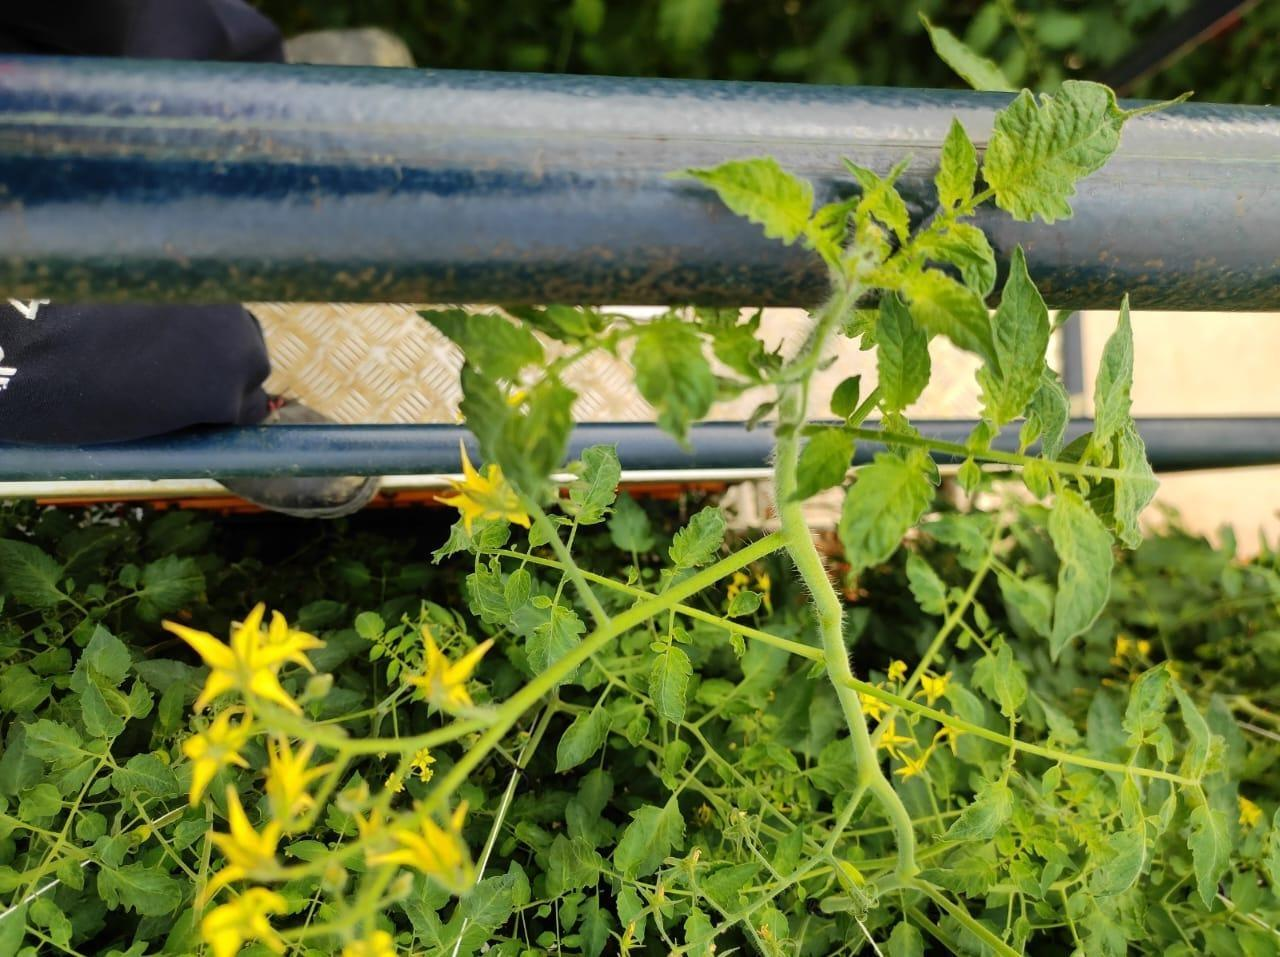Rugose leaf: (982, 80, 1132, 222), (977, 247, 1050, 427), (876, 291, 928, 409), (1170, 678, 1224, 782), (1187, 803, 1231, 906), (941, 782, 1011, 841), (935, 119, 976, 210), (1089, 831, 1145, 897), (926, 843, 995, 896), (669, 506, 726, 567), (649, 647, 692, 725), (1124, 665, 1173, 732)
